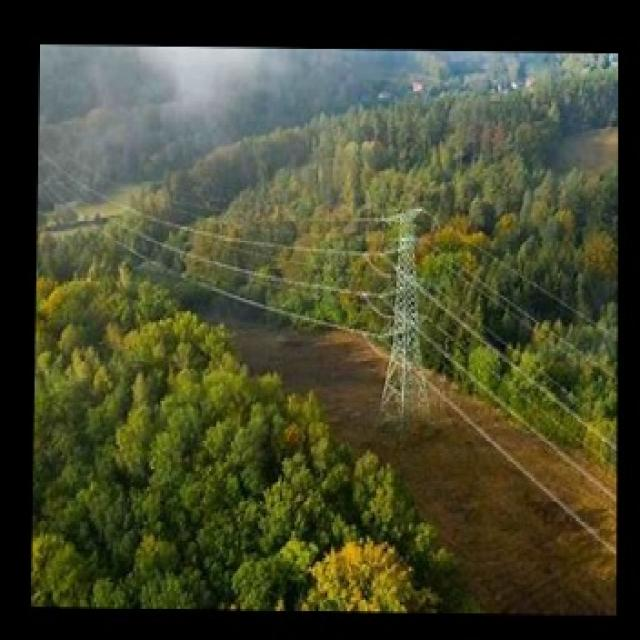utility poles: (355, 185, 454, 445)
